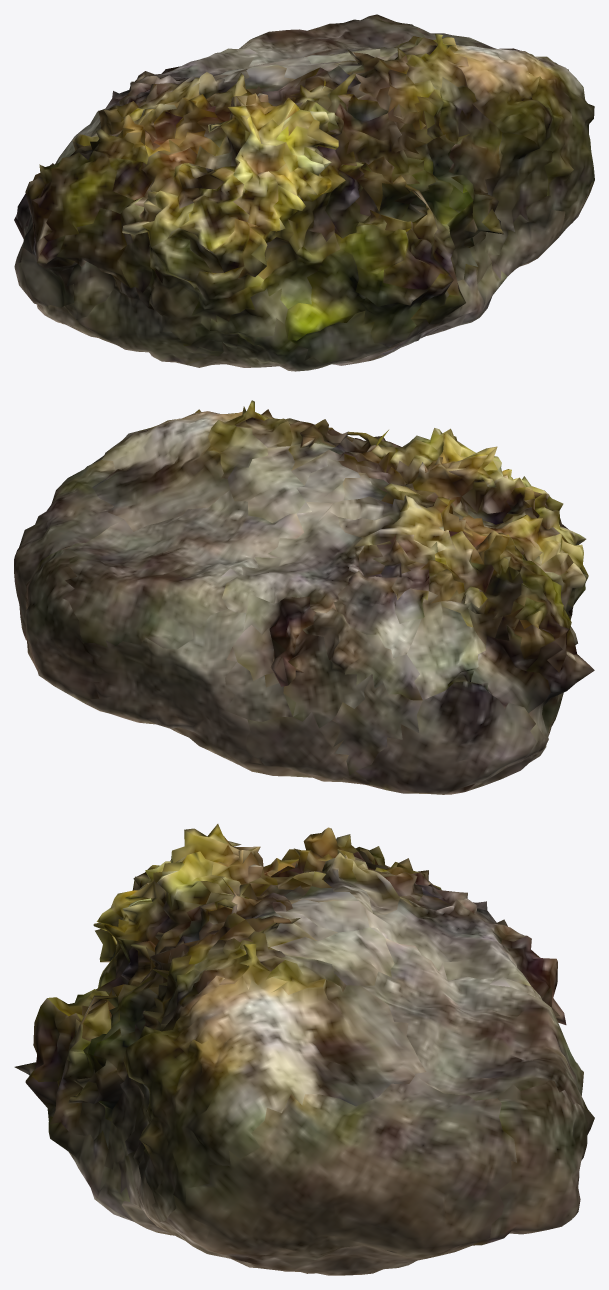
Rendered from rock-with-moss.glb.
3 views of the same model, one above another, from view 1: azimuth 30°, elevation 25°; view 2: azimuth 150°, elevation 25°; view 3: azimuth 270°, elevation 25° (orthographic). The views are drawn at different scales.
Visible parts, largest first — view 1: Rock with Moss (Photoscanned); view 2: Rock with Moss (Photoscanned); view 3: Rock with Moss (Photoscanned).
Boxes of the visible parts, x1,y1,x2,y2 form: Rock with Moss (Photoscanned): [14, 14, 594, 371]; Rock with Moss (Photoscanned): [14, 400, 594, 794]; Rock with Moss (Photoscanned): [14, 824, 594, 1275].
Size of the model in its own units: 0.1544 by 0.0721 by 0.1212.
Materials: 1 (1 with a texture image).
